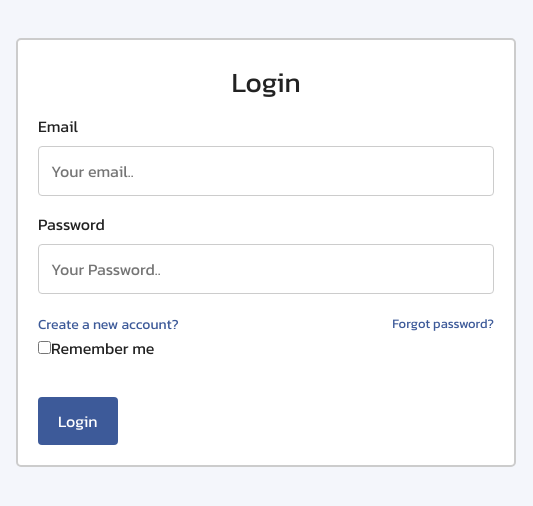
Login - field validation › clears field error when user starts typing
The image size is (533, 506).
Click the button showing "Login" at (78, 422), box [38,398,118,446]
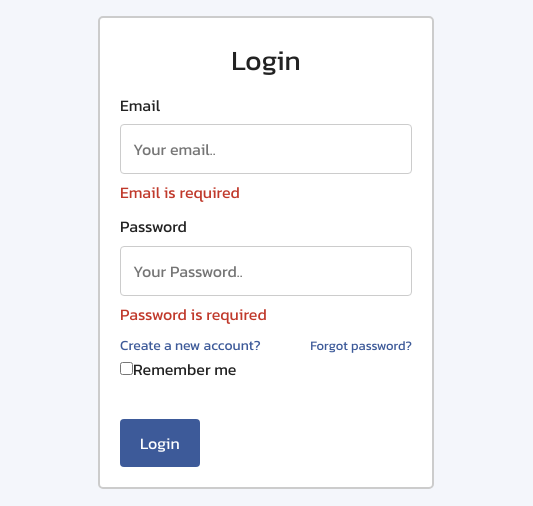
Result: the text "Email is required" is shown at [120,180,240,204]
Type "a" into the field with placeholder "Your email.." at (266, 149), box [120,124,412,174]
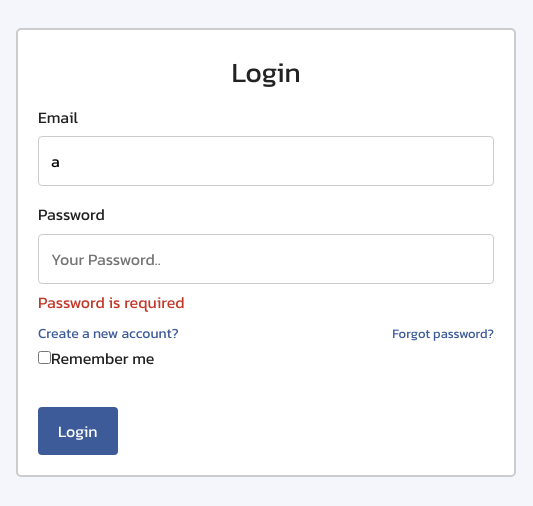
Result: the text "Email is required" is gone
